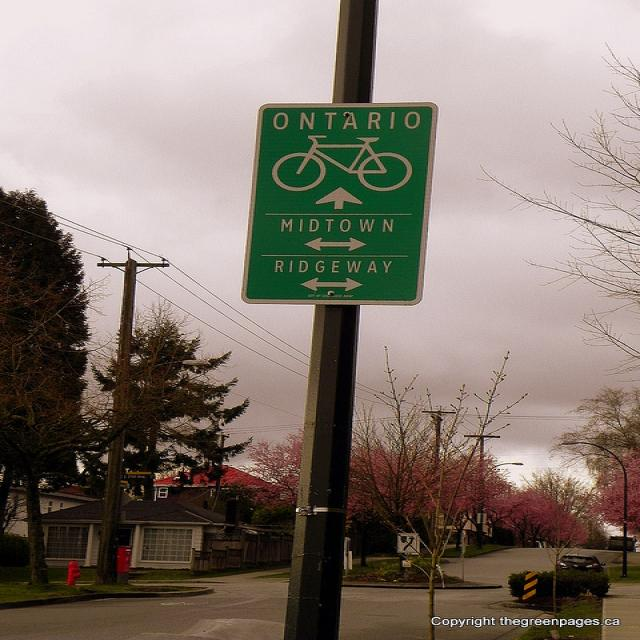Vehicle: (558, 554, 608, 574), (608, 535, 635, 552)
